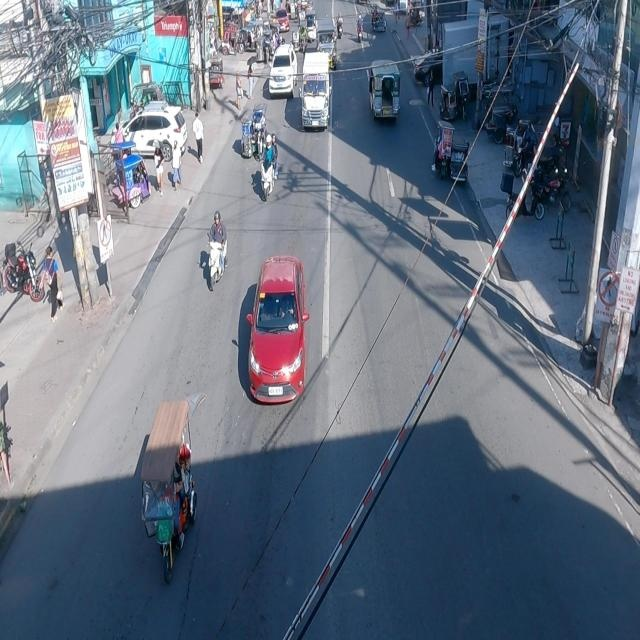Van: (300, 49, 333, 130)
